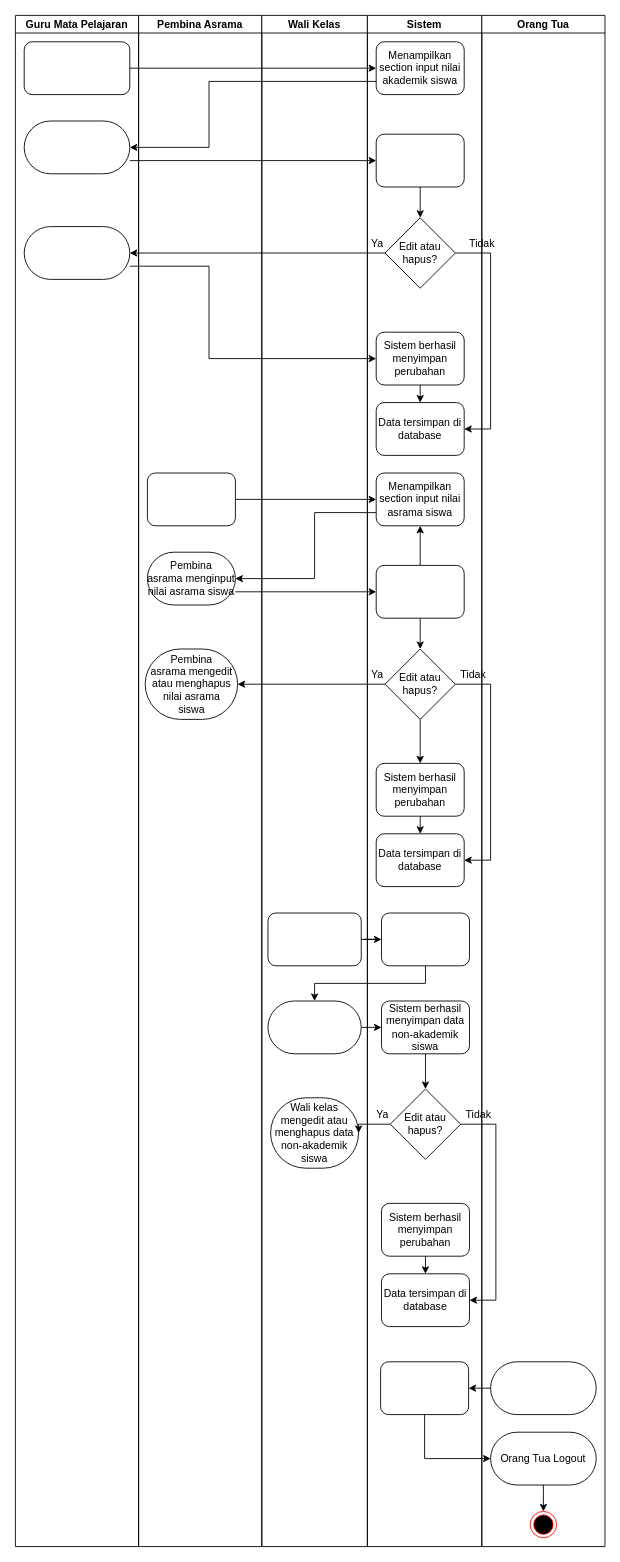
Image size: 620x1562. Some labels were removed from this diagram. The shapes that lost their labels are listed below. From the top down, each one's centre as x and y in pixels, then its label:
At point (76, 68): "Guru memiliki nilai akademik siswa".
At point (76, 147): "Guru menginput nilai akademik siswa".
At point (419, 160): "Sistem berhasil menyimpan nilai akademik siswa".
At point (76, 252): "Guru mengedit atau menghapus nilai akademik siswa".
At point (191, 499): "Pembina asrama memiliki nilai asrama".
At point (419, 591): "Sistem berhasil menyimpan nilai asrama siswa".
At point (314, 939): "Wali kelas memiliki data non-akademis siswa".
At point (425, 939): "Menampilkan section input nilai non-akademik siswa".
At point (314, 1027): "Walli kelas menginput data non-akademik siswa".
At point (424, 1388): "Sistem menampilkan data siswa".
At point (543, 1388): "Orang Tua Login".
